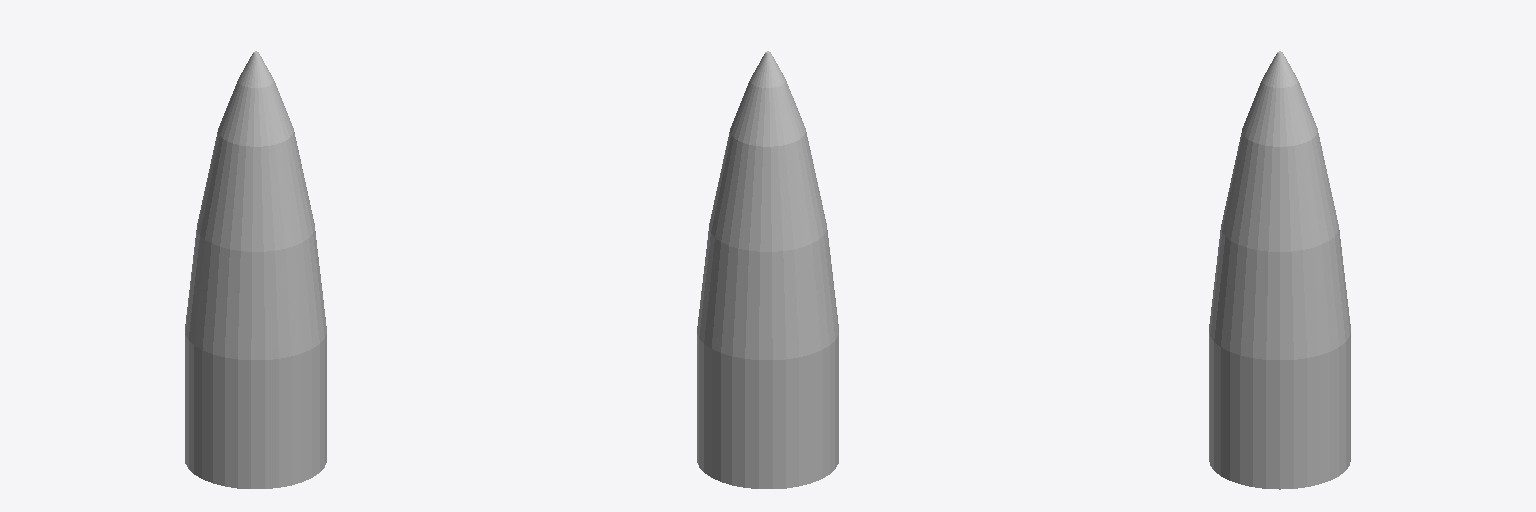
File: head.obj
3 renders of one model, left to right at view 1: azimuth 30°, elevation 25°; view 2: azimuth 150°, elevation 25°; view 3: azimuth 270°, elevation 25°, orthographic.
Parts seen in each view (by area): view 1: Cylinder.001; view 2: Cylinder.001; view 3: Cylinder.001.
Boxes of the visible parts, <box> form: Cylinder.001: <box>185,51,326,488</box>; Cylinder.001: <box>697,51,838,488</box>; Cylinder.001: <box>1209,51,1350,489</box>.
Bounding box in the file's own units: 0.3973 × 1.25 × 0.3973.